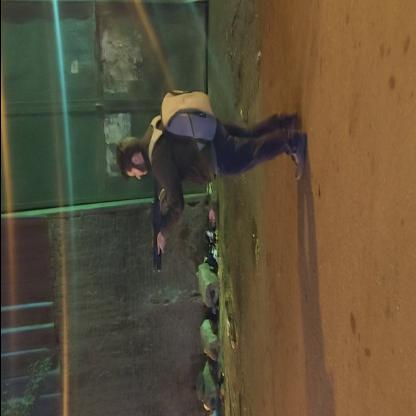long weapon: (146, 178, 168, 282)
